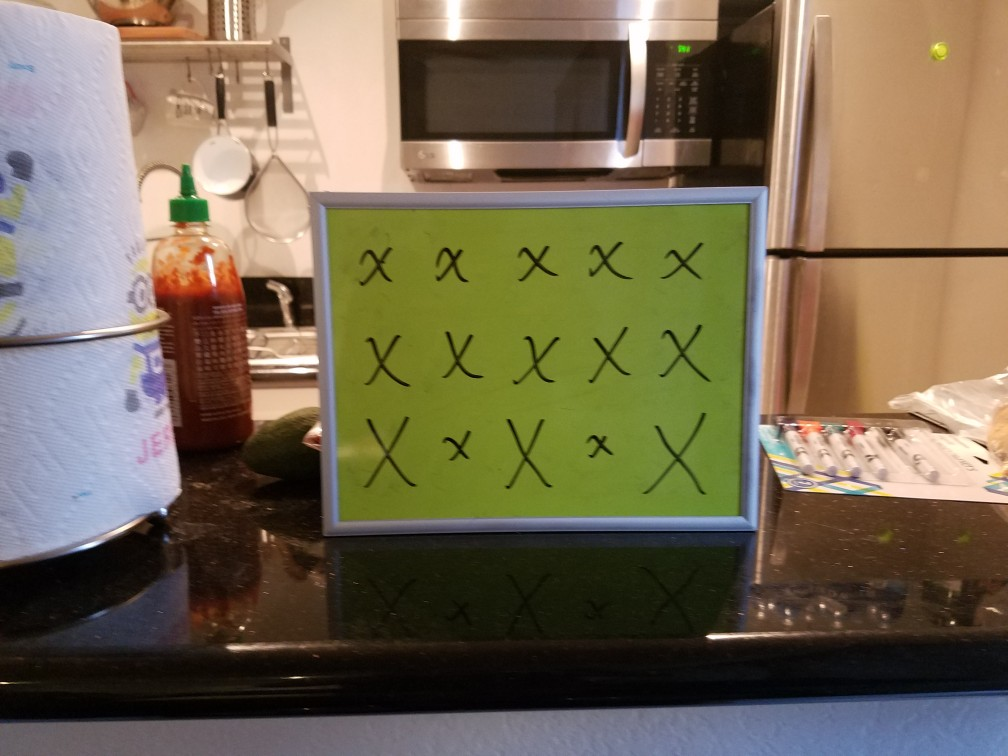x: (647, 409, 711, 513), (588, 317, 642, 389), (505, 421, 554, 499), (650, 233, 718, 289), (365, 415, 411, 487), (520, 330, 566, 400), (660, 323, 711, 386), (583, 228, 633, 288), (363, 330, 407, 394), (345, 236, 394, 289), (517, 230, 558, 286), (430, 238, 475, 289), (440, 333, 480, 387), (440, 422, 480, 465), (586, 427, 612, 464)
